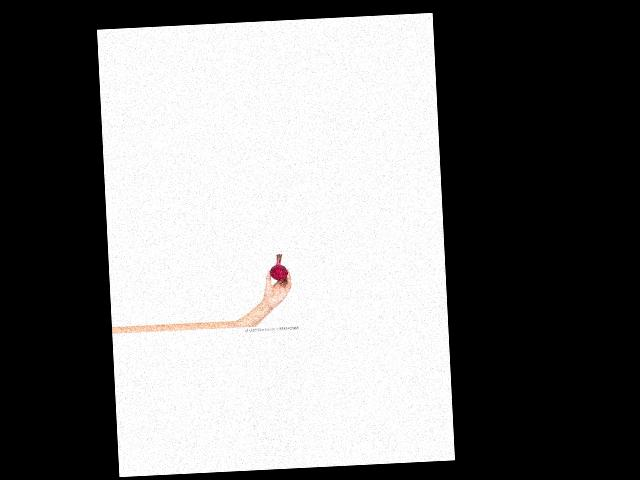beet: (269, 253, 288, 280)
